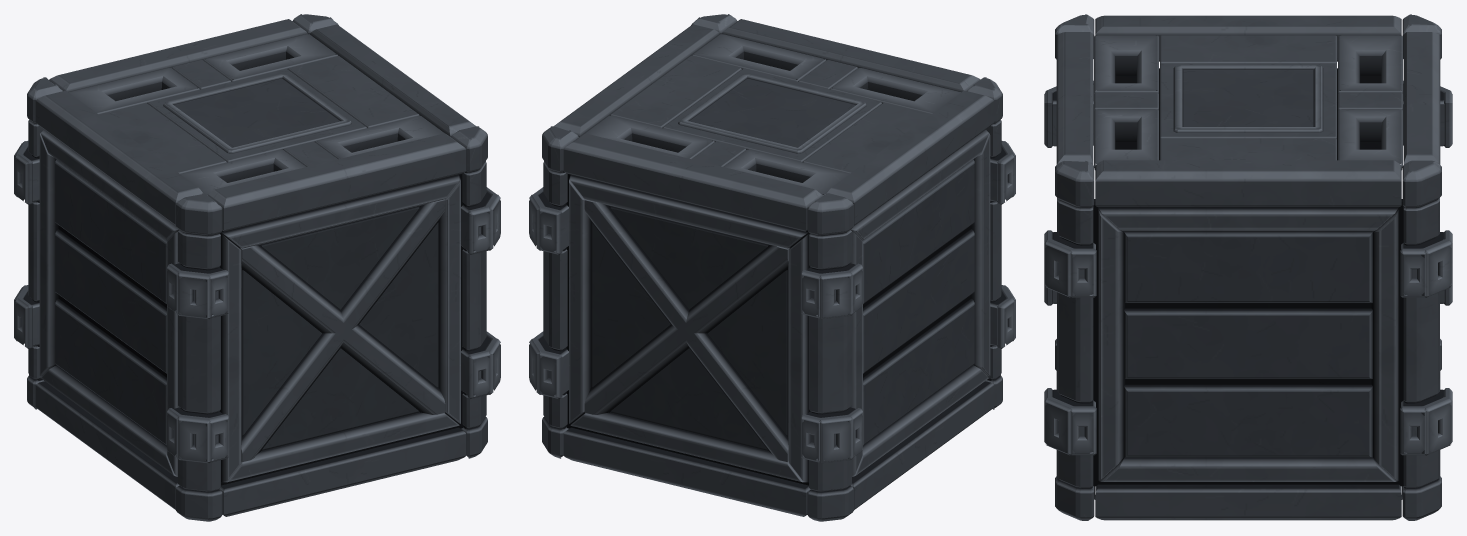
The model's file is industrial_crate.glb.
3 views of the same model, side by side, from view 1: azimuth 30°, elevation 25°; view 2: azimuth 150°, elevation 25°; view 3: azimuth 270°, elevation 25° (orthographic). The views are drawn at different scales.
Parts seen in each view (by area): view 1: IndustrialCrate; view 2: IndustrialCrate; view 3: IndustrialCrate.
Boxes of the visible parts, x1,y1,x2,y2 form: IndustrialCrate: (14,14,500,521); IndustrialCrate: (529,14,1015,521); IndustrialCrate: (1044,14,1452,520).
Size of the model in its own units: 1.48 by 1.4 by 1.48.
Materials: 1 (1 with a texture image).
